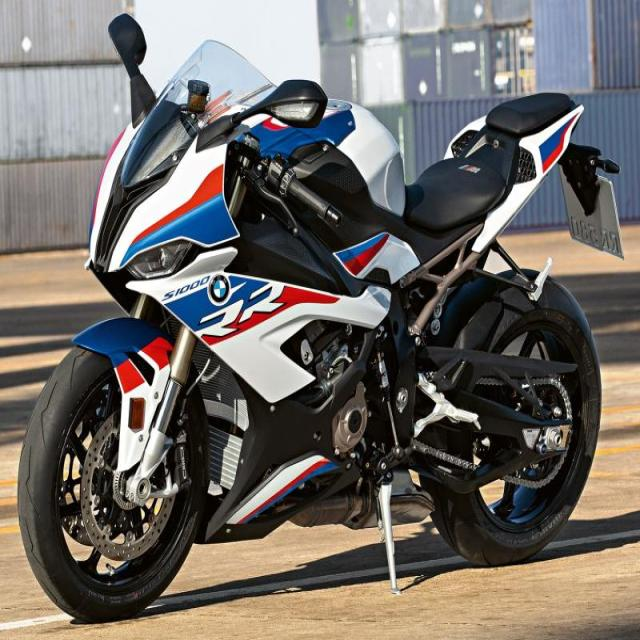Motorcycle: (17, 14, 619, 620)
